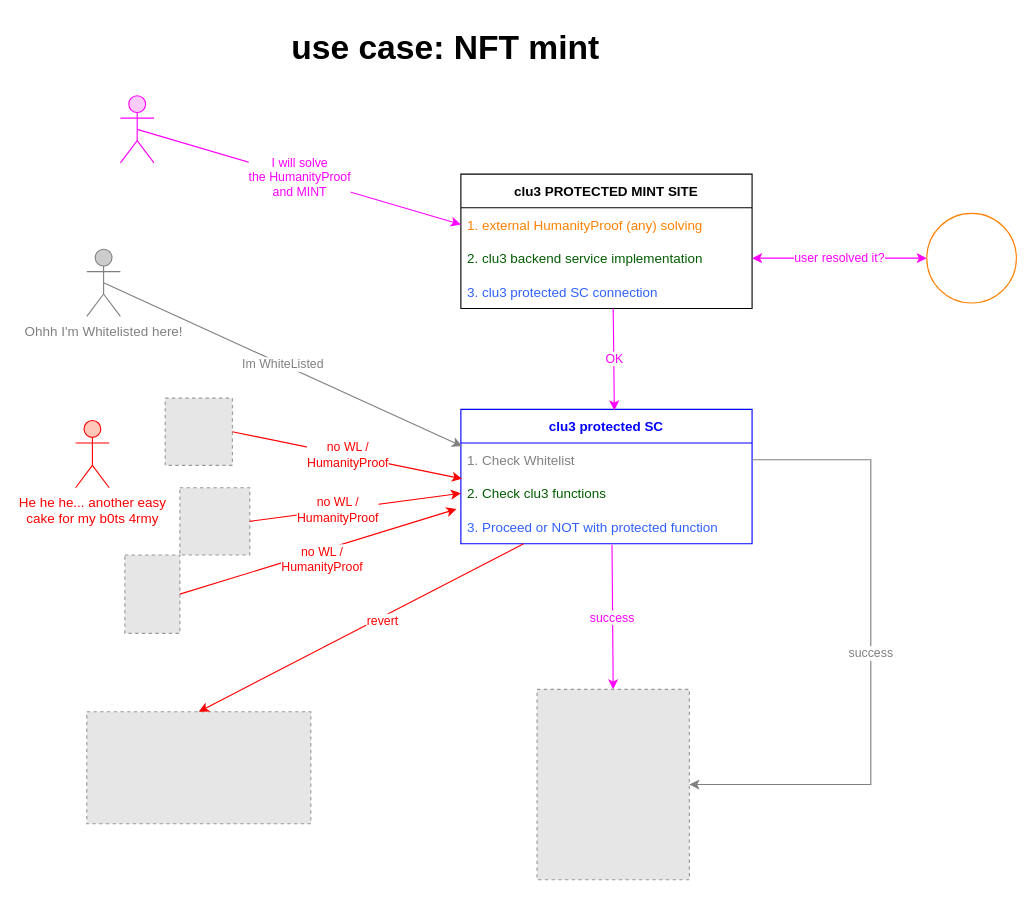
Image size: 1036x899. Some labels were removed from this diagram. Grey dashed boxes stand in for pictures. Here are the shapes that lost their labels. From the top down, the box of each, then its label:
(119, 95, 154, 163): I wanna MINT this Blue Chip!
(926, 212, 1016, 303): Humanity Proof API
